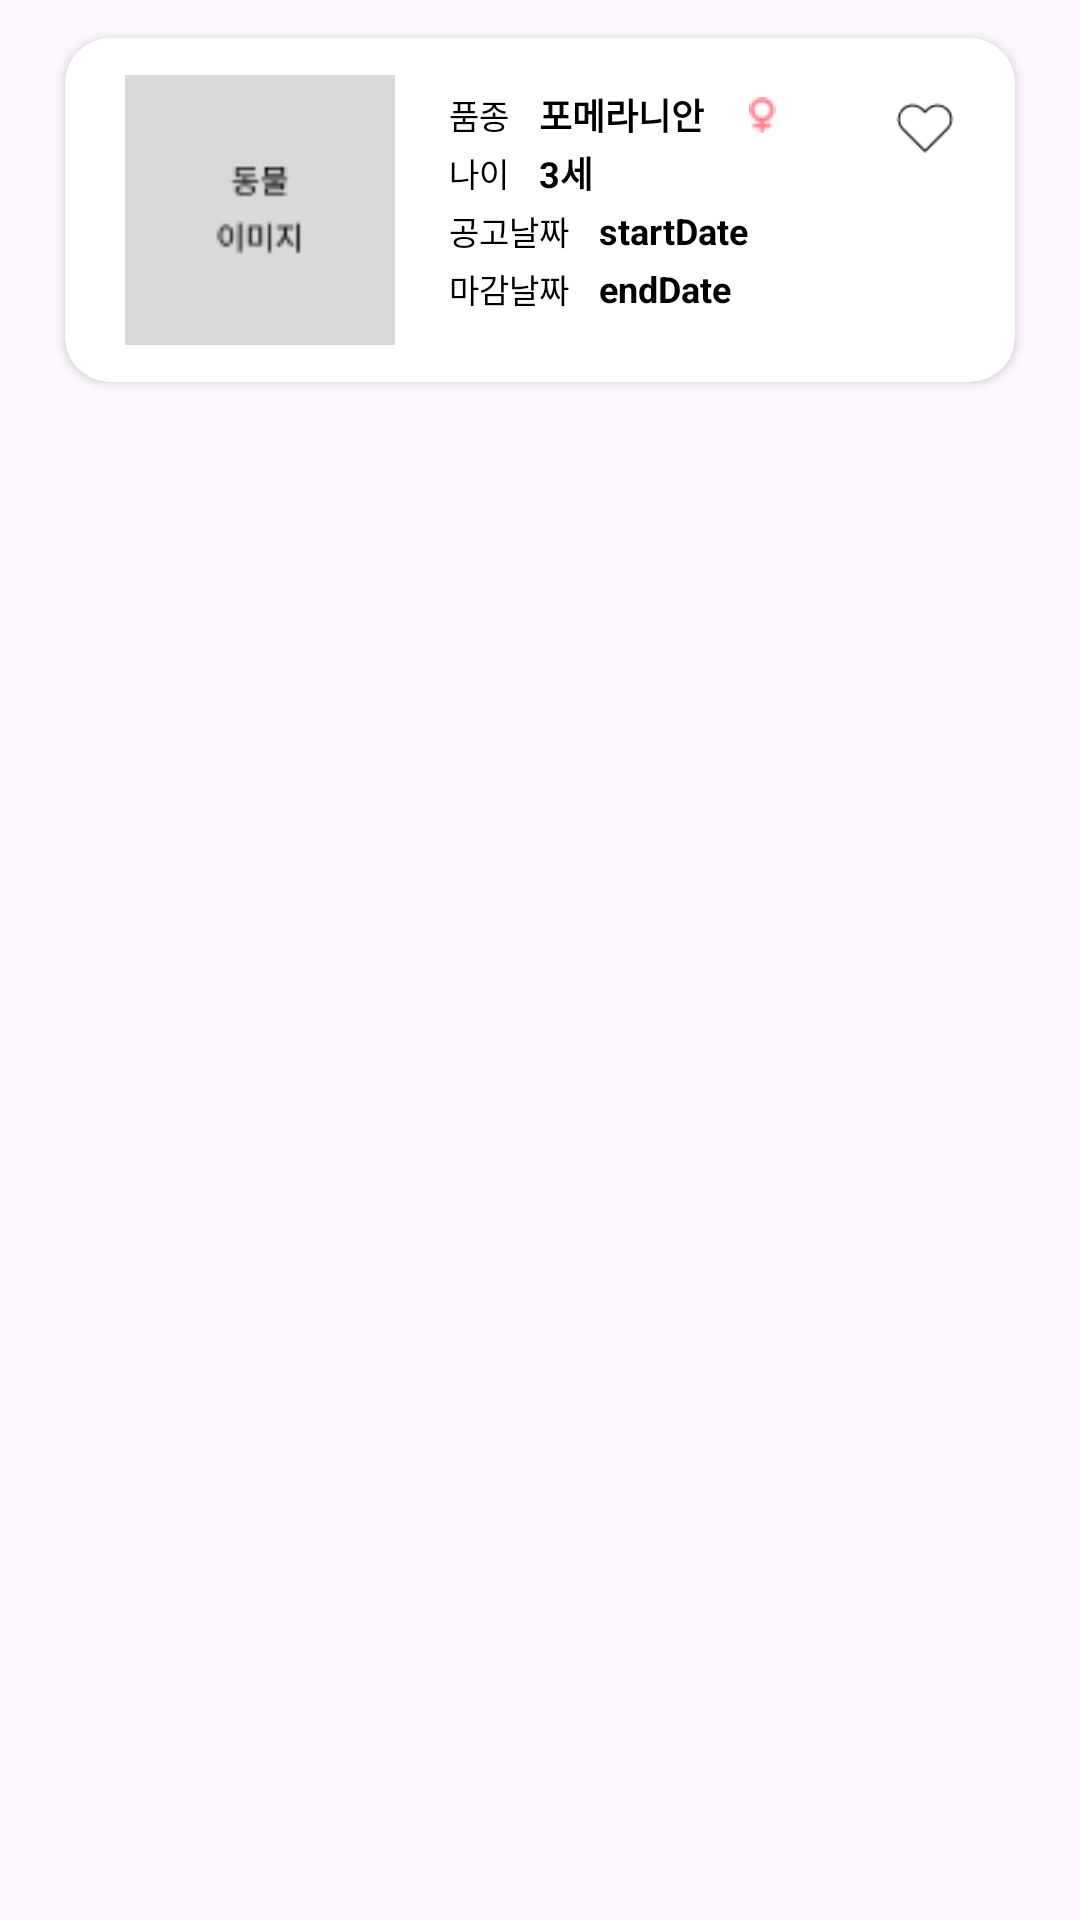

Named icons in this screenshot (1080*1920) and their bounding boxes, bbox=[x1, y1, x2, y2]:
gender female: bbox=[749, 97, 776, 133]
heart: bbox=[896, 103, 954, 153]
